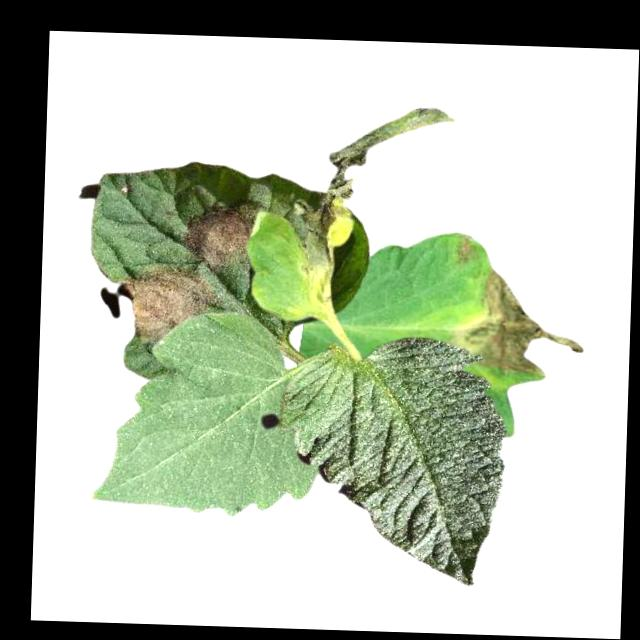Late_blight: (284, 103, 458, 298), (458, 268, 586, 378), (116, 266, 219, 353), (175, 198, 263, 274), (452, 233, 479, 267)
